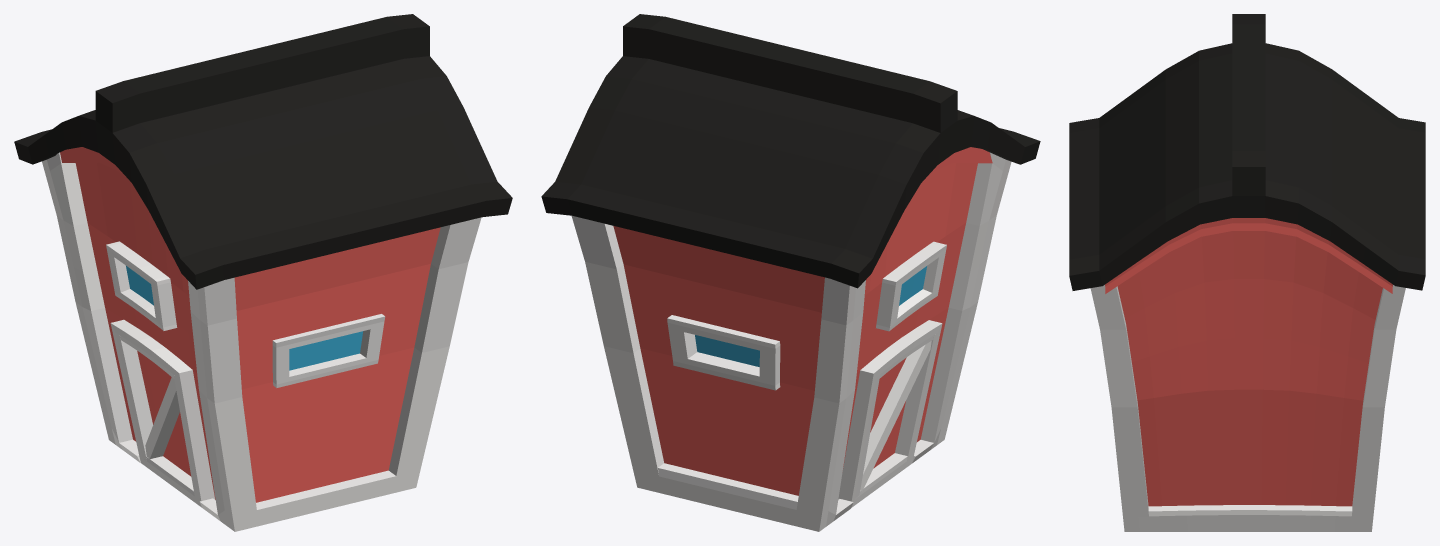
File: barn.fbx
3 views of the same model, side by side, from view 1: azimuth 30°, elevation 25°; view 2: azimuth 150°, elevation 25°; view 3: azimuth 270°, elevation 25° (orthographic).
Visible parts, largest first — view 1: Cube, Cube.001; view 2: Cube, Cube.001; view 3: Cube.
Part boxes in pixels (bbox=[...]): Cube: bbox=[14, 14, 512, 531]; Cube.001: bbox=[145, 377, 179, 460]; Cube: bbox=[541, 14, 1040, 531]; Cube.001: bbox=[860, 341, 931, 491]; Cube: bbox=[1069, 14, 1425, 531].
Bounding box in the file's own units: 241 × 296 × 238.
